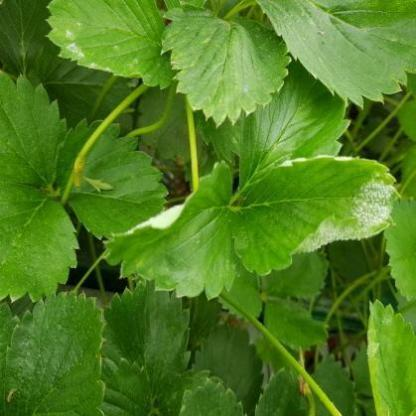Strawberry_Powdery_Mildew_Leaf: (230, 156, 402, 278), (103, 161, 241, 301), (45, 0, 180, 90)
